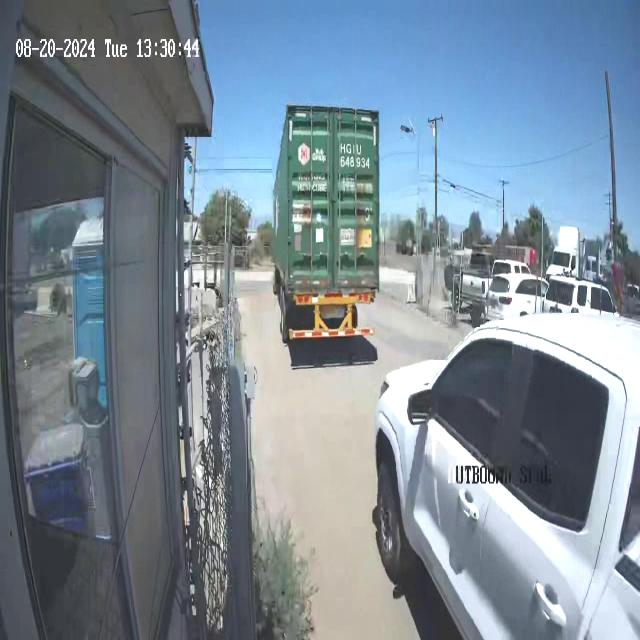CONTAINER: (271, 102, 380, 305)
